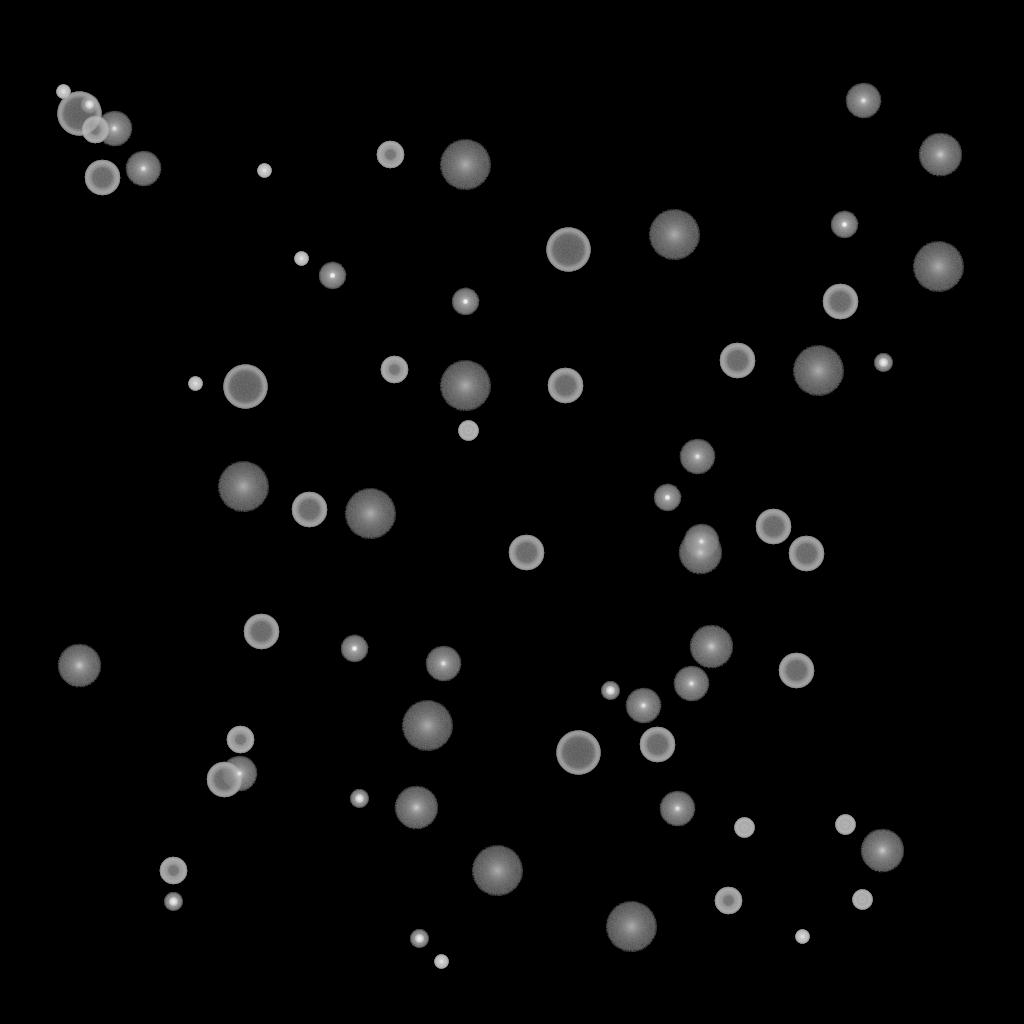depth:-10: (830, 211, 858, 239), (451, 288, 479, 316), (340, 635, 368, 663), (653, 484, 681, 512), (318, 262, 346, 290)
depth:-20: (601, 682, 619, 700), (410, 930, 428, 948), (164, 893, 182, 911), (350, 790, 368, 808), (80, 96, 98, 114), (874, 354, 892, 372)
depth:-30: (294, 252, 308, 266), (795, 930, 809, 944), (188, 377, 202, 391), (434, 955, 448, 969), (257, 164, 271, 178), (56, 85, 70, 99)
depth:-40: (852, 890, 872, 910), (458, 421, 478, 441), (835, 815, 855, 835), (734, 818, 754, 838)
depth:-50: (376, 141, 404, 169), (226, 726, 254, 754), (380, 356, 408, 384), (714, 887, 742, 915), (81, 116, 109, 144), (159, 857, 187, 885)
depth:-60: (755, 509, 791, 545), (206, 762, 242, 798), (719, 343, 755, 379), (291, 492, 327, 528), (243, 614, 279, 650), (778, 653, 814, 689), (508, 535, 544, 571), (639, 727, 675, 763), (788, 536, 824, 572), (547, 368, 583, 404), (84, 160, 120, 196), (822, 284, 858, 320)
depth:-70: (223, 365, 267, 409), (546, 228, 590, 272), (57, 92, 101, 136), (556, 731, 600, 775)
depth:0: (96, 111, 132, 147), (425, 646, 461, 682), (659, 791, 695, 827), (673, 666, 709, 702), (625, 688, 661, 724), (125, 151, 161, 187), (683, 524, 719, 560), (679, 439, 715, 475), (221, 756, 257, 792), (845, 83, 881, 119)
depth:10: (689, 625, 733, 669), (394, 786, 438, 830), (678, 531, 722, 575), (918, 133, 962, 177), (57, 644, 101, 688), (860, 829, 904, 873)
depth:20: (217, 462, 269, 512), (605, 902, 657, 952), (439, 140, 491, 190), (912, 242, 964, 292), (471, 846, 523, 896), (648, 210, 700, 260), (401, 701, 453, 751), (792, 346, 844, 396), (344, 489, 396, 539), (439, 361, 491, 411)
